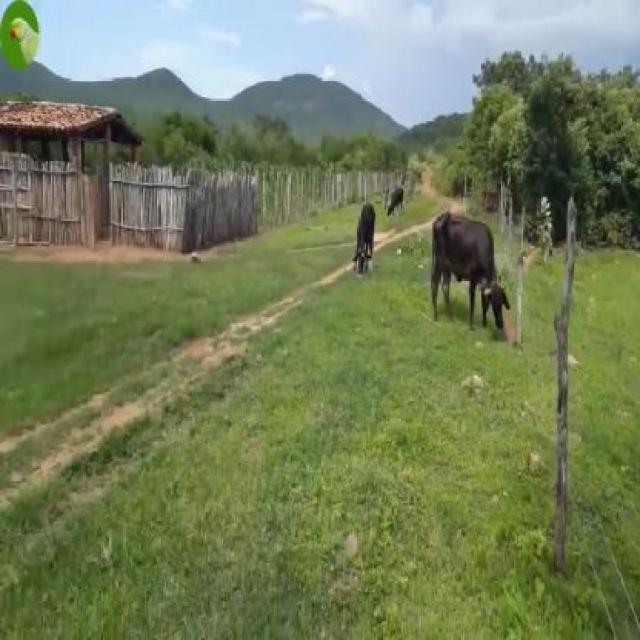Cow: (430, 211, 508, 335)
